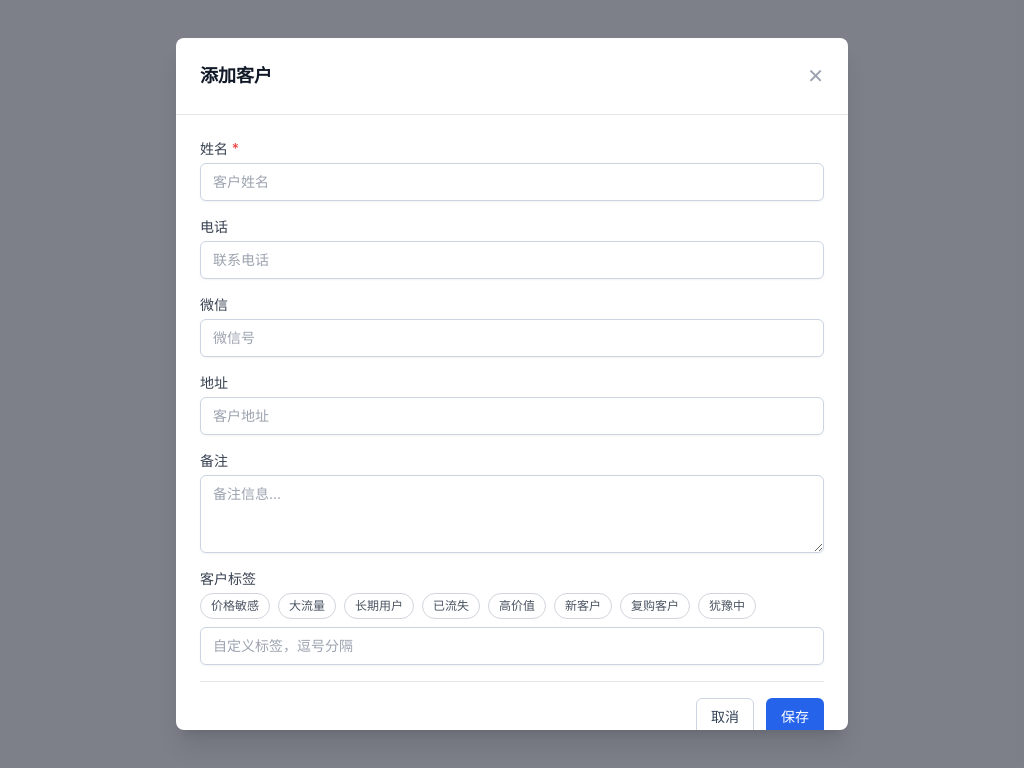
Test case: CustomerForm 添加模式 › 手机号格式错误时给出对应校验信息
Type "李四" into the field with placeholder "客户姓名" at (512, 182), box [200,163,824,201]
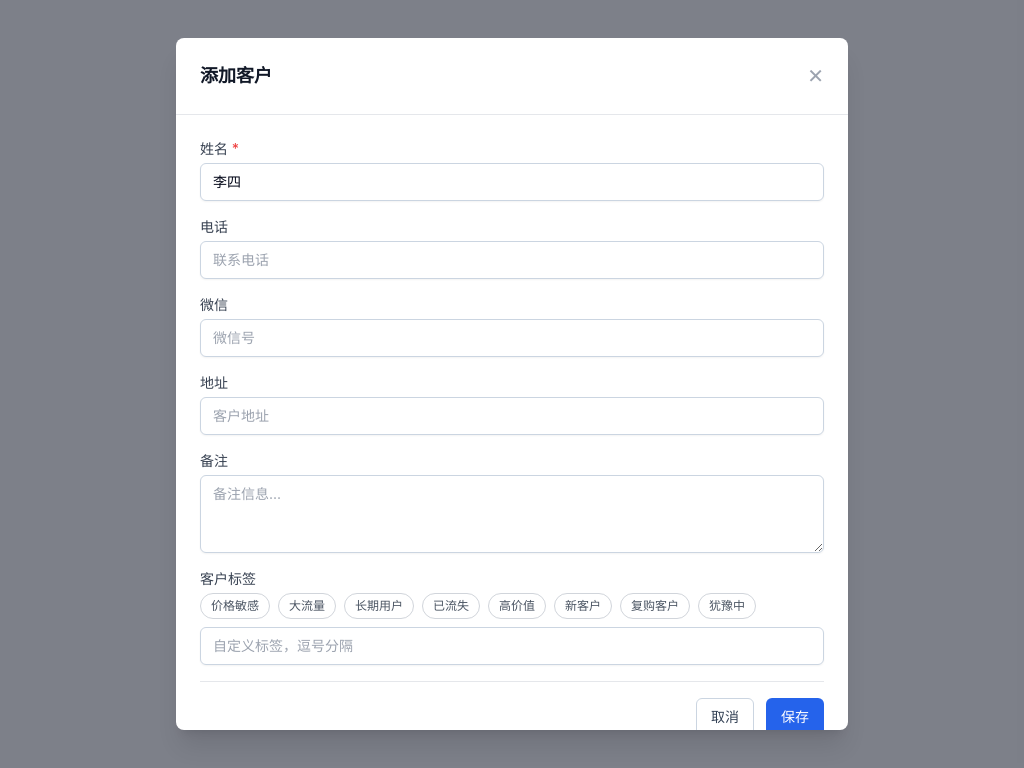
Type "123" into the field with placeholder "联系电话" at (512, 260), box [200,241,824,279]
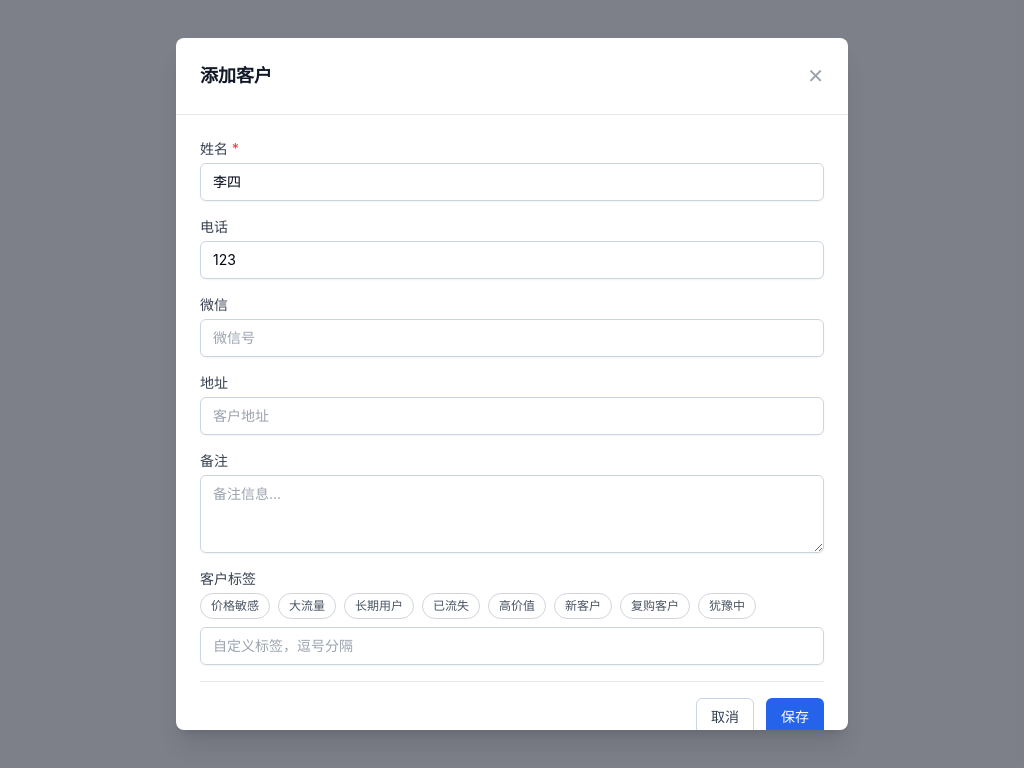
Submit the form, box [176,115,848,760]
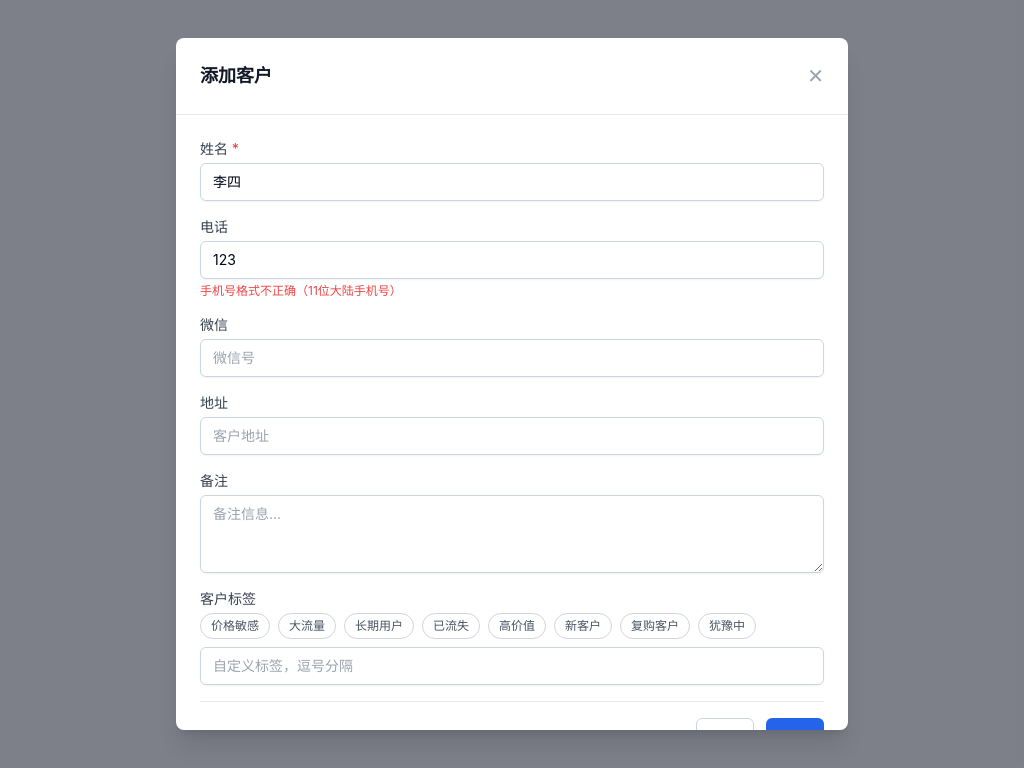
Now the text "手机号格式不正确（11位大陆手机号）" is shown, box [200,283,402,298]
